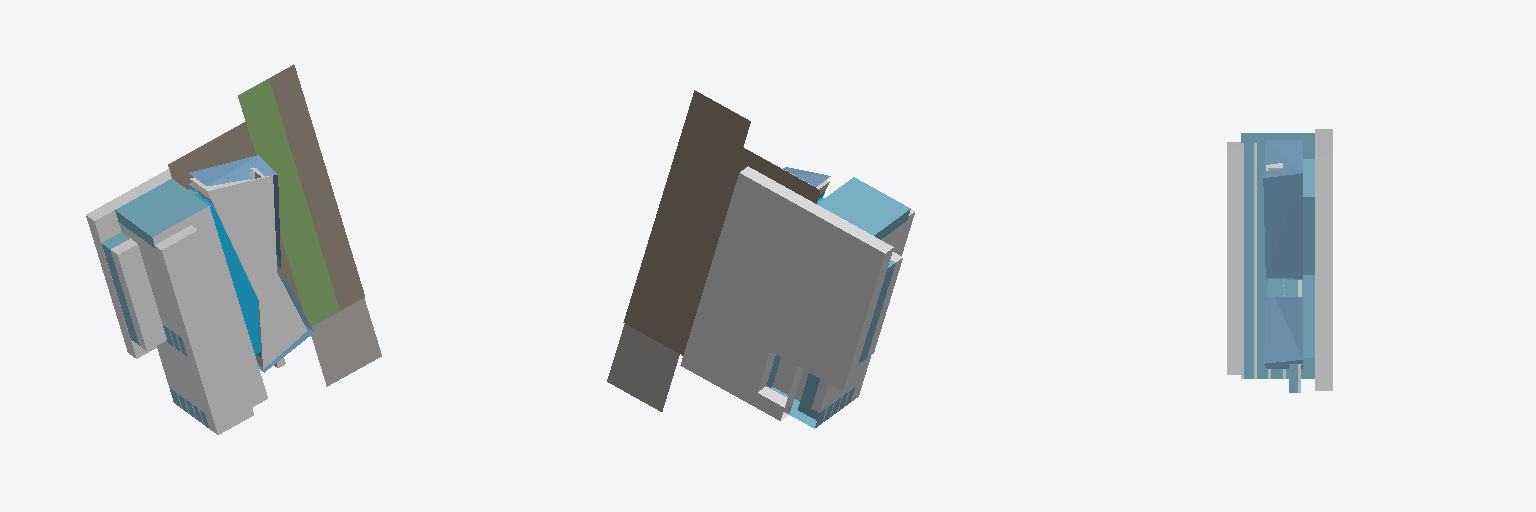
File: opt2-6.obj
3 renders of one model, left to right at view 1: azimuth 30°, elevation 25°; view 2: azimuth 150°, elevation 25°; view 3: azimuth 270°, elevation 25°, orthographic.
Size of the model in its own units: 338 by 371 by 108.